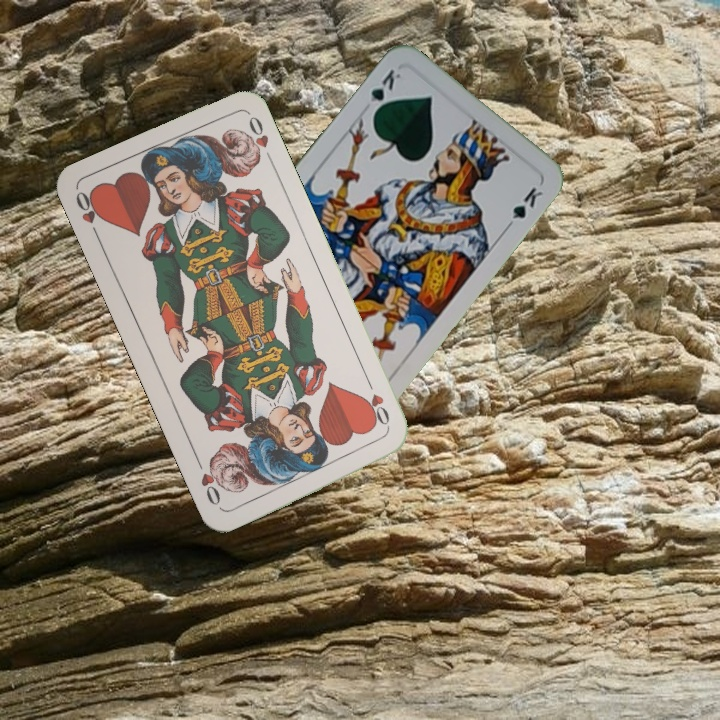GK: (363, 64, 404, 119)
HO: (358, 376, 393, 433), (71, 187, 106, 244)
